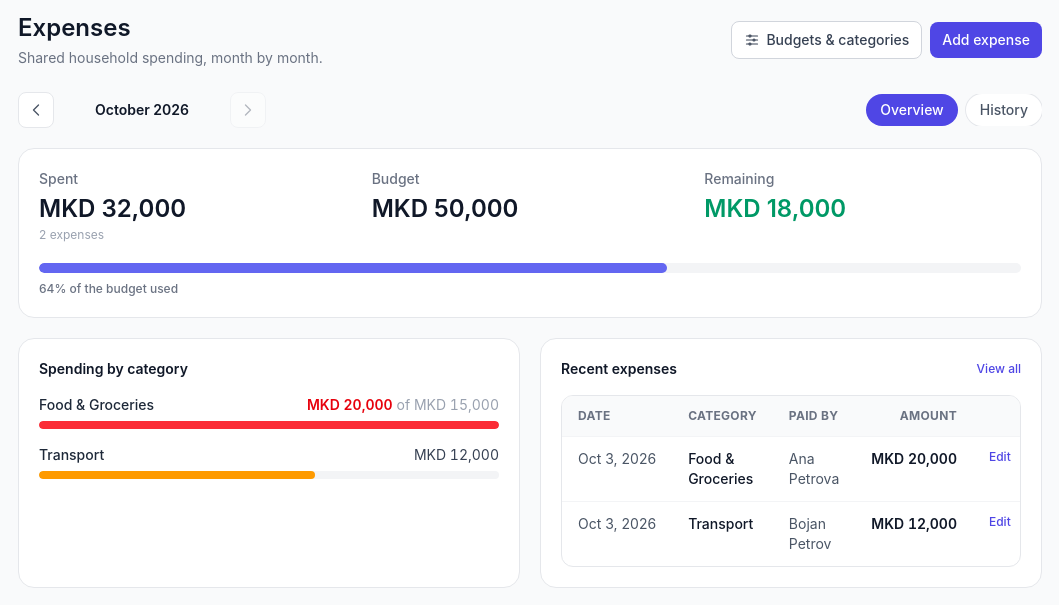
Scenario: Expenses page › says when no expenses match the filters
This screenshot has width=1059, height=605.
Click the tab "History" at x=1004, y=110, box top-left (966, 94), bottom-right (1042, 126)
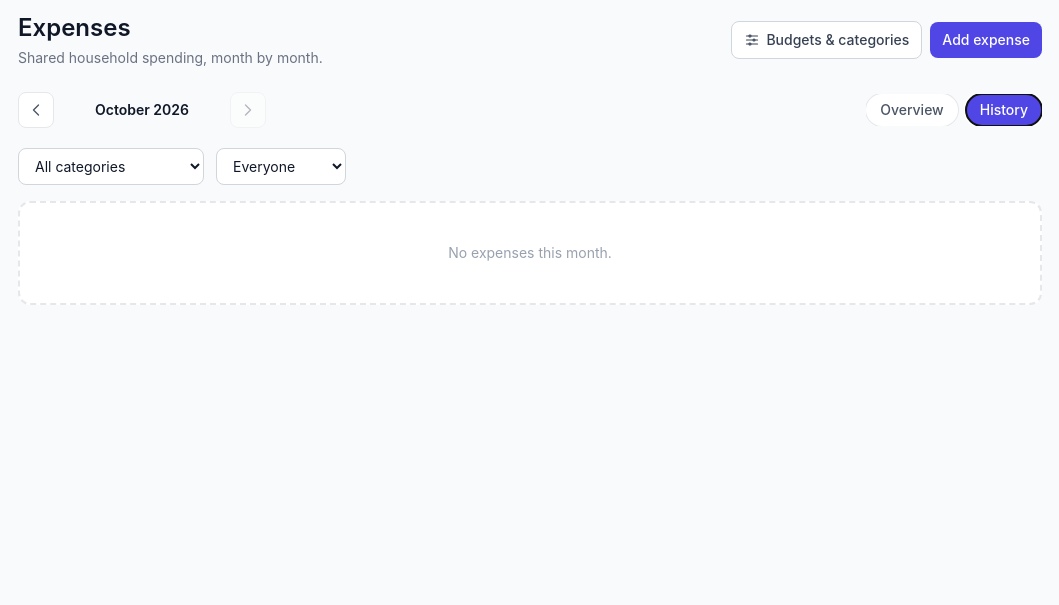
Now the text "No expenses this month." is shown, box top-left (18, 201), bottom-right (1042, 305)
Select "Food & Groceries" in the dropdown named "Category" at x=111, y=166, box top-left (18, 148), bottom-right (204, 185)
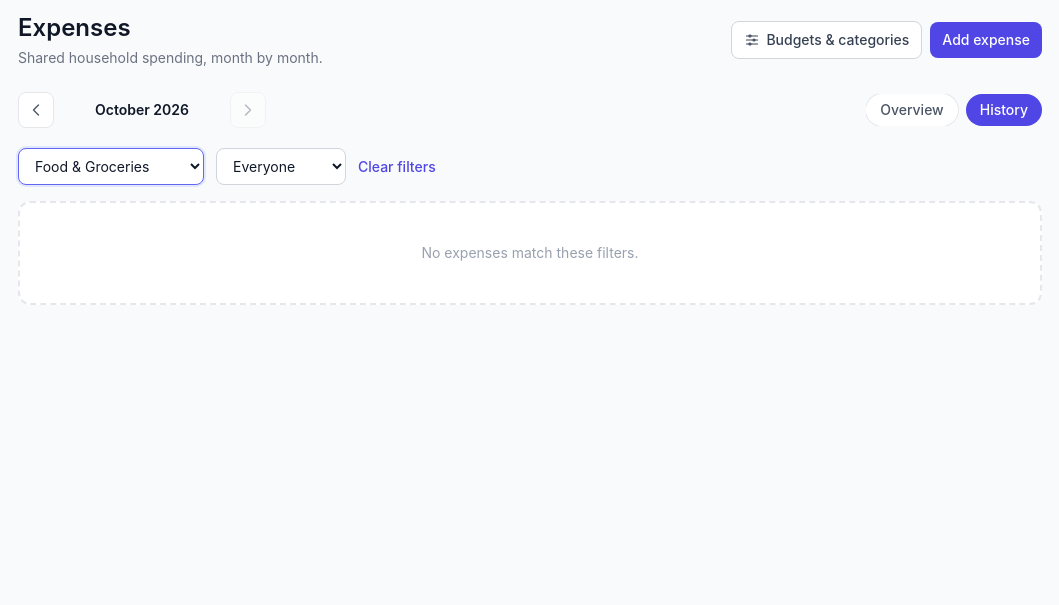
Now the text "No expenses match these filters." is shown, box top-left (18, 201), bottom-right (1042, 305)
